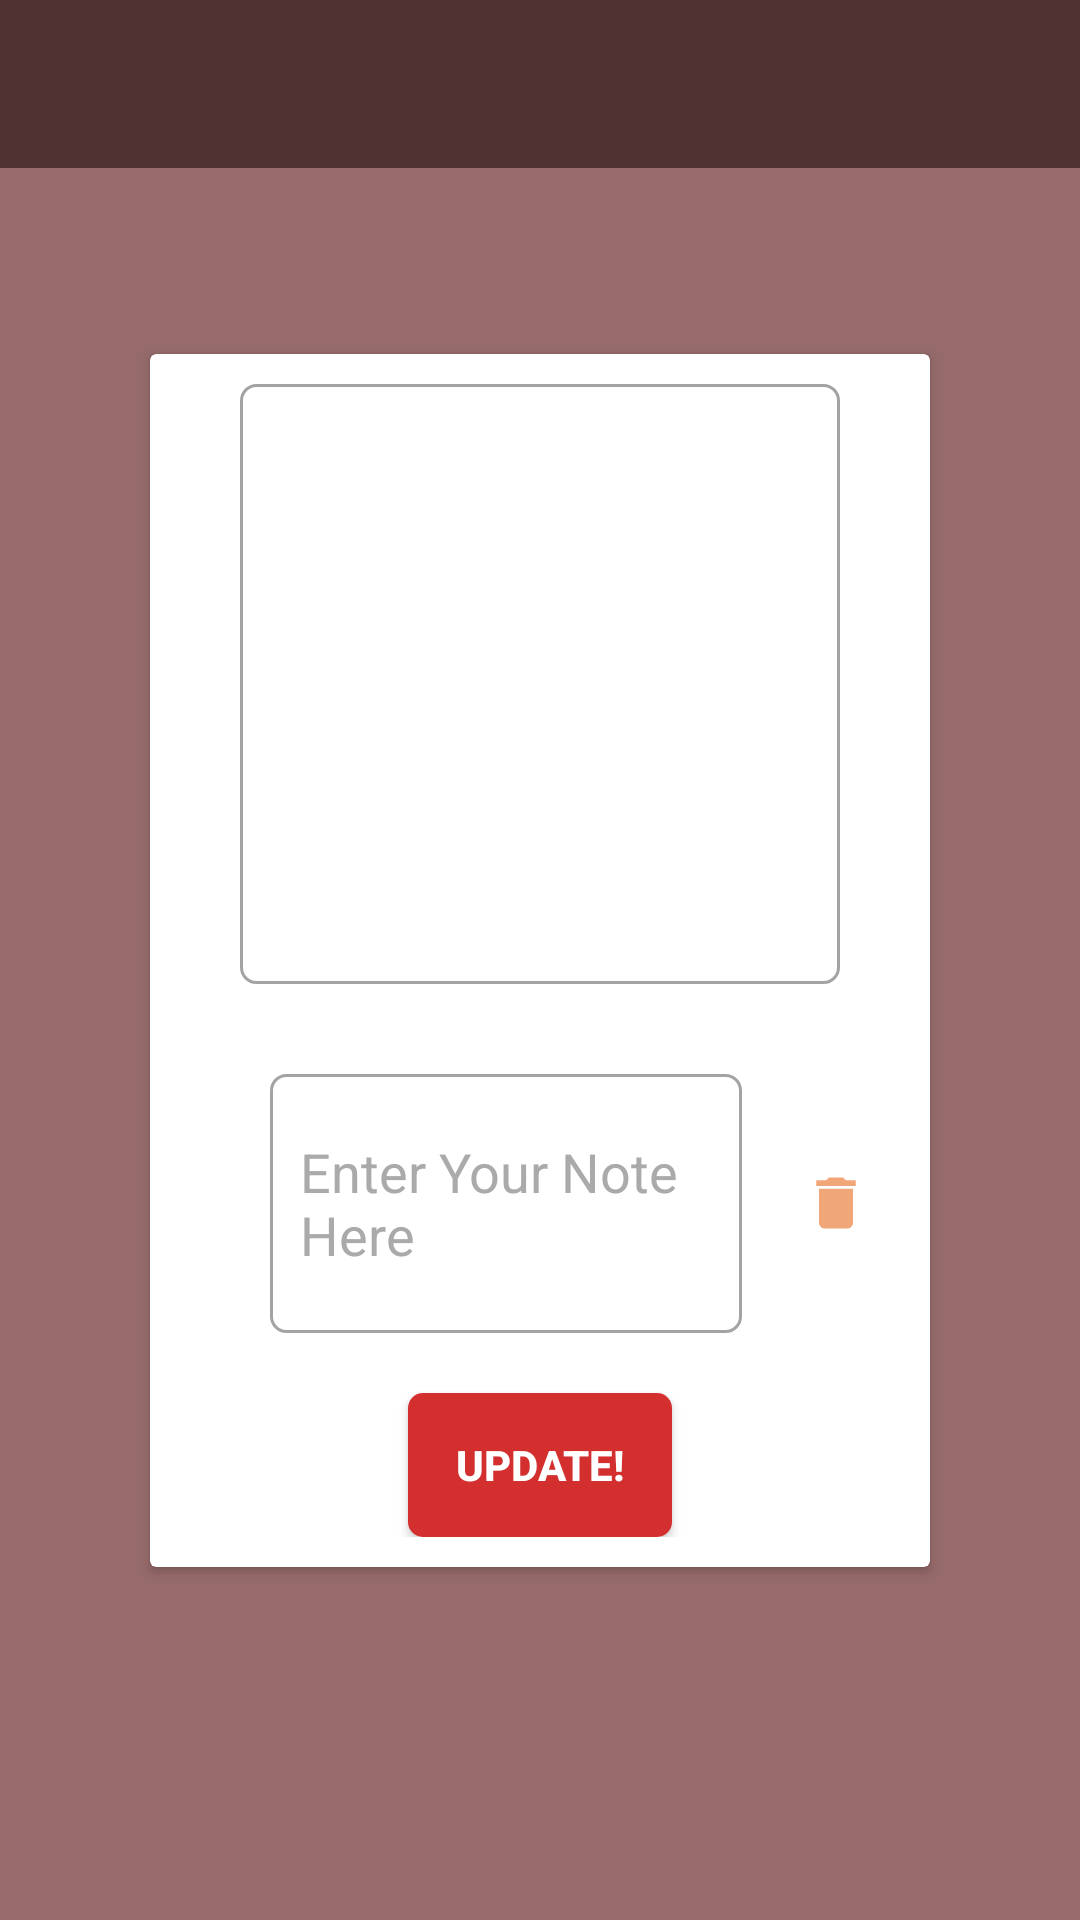

Icons on this 1080px x 1920px Android screen, each with the point to tap as point (x, y):
delete: point (836, 1203)
